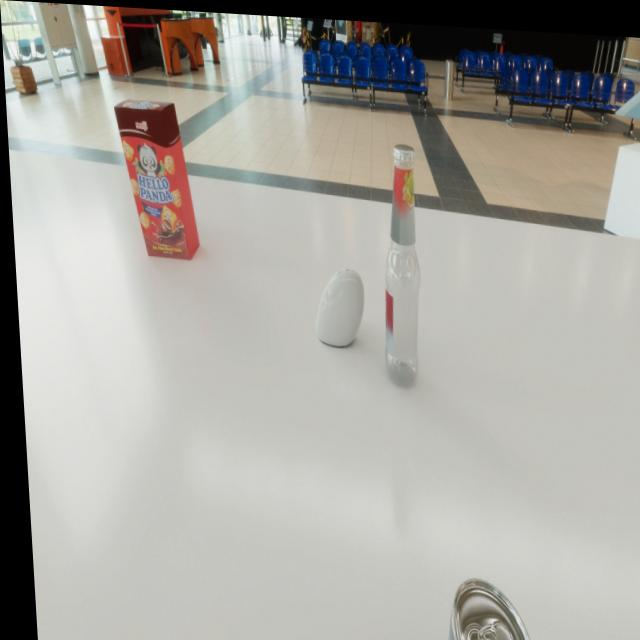Bottle: (370, 138, 424, 384)
HelloPanda: (112, 97, 198, 258)
Salt: (309, 263, 364, 344)
